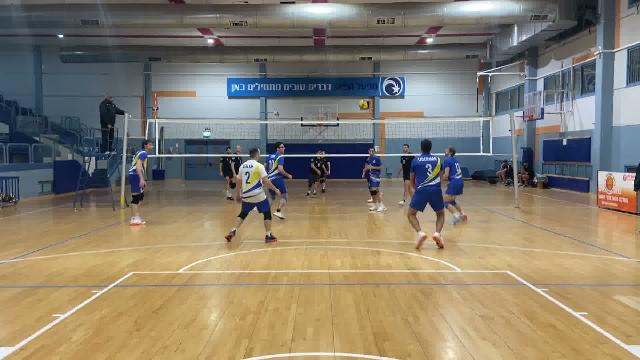ball: (355, 98, 371, 112)
